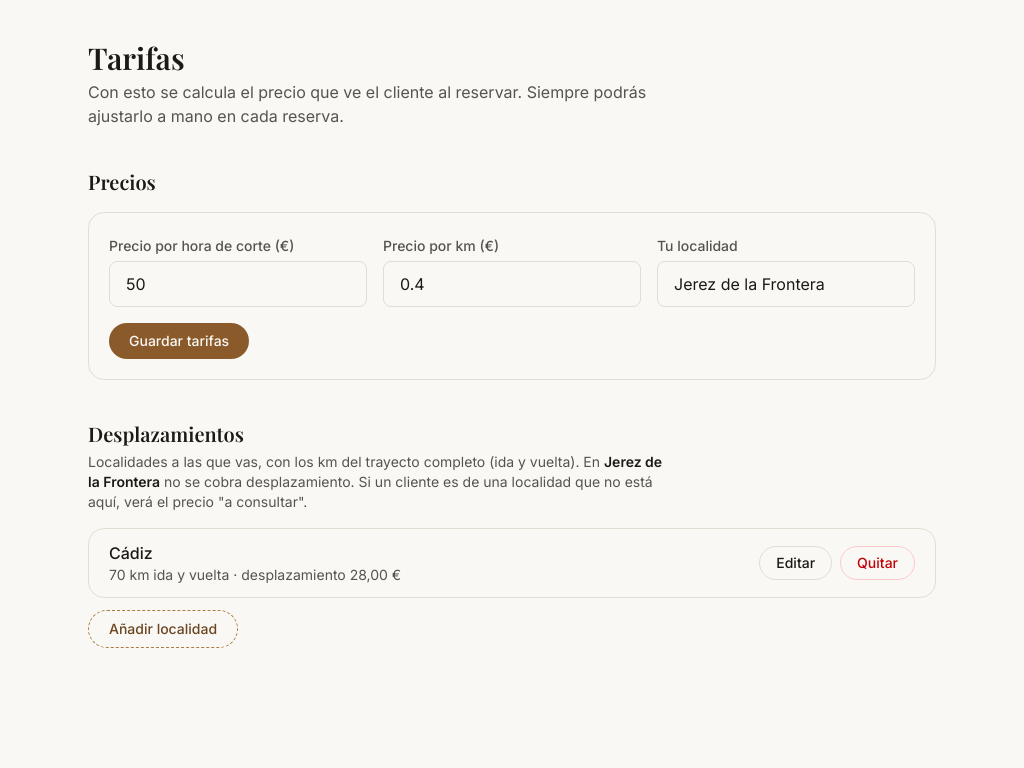
Test: AdminPricing › guardar tarifas envía los números y avisa de que se han guardado
Step 1. Replace the text in the number field labelled "Precio por hora de corte (€)" with "60" → (238, 284), box [109,261,367,307]
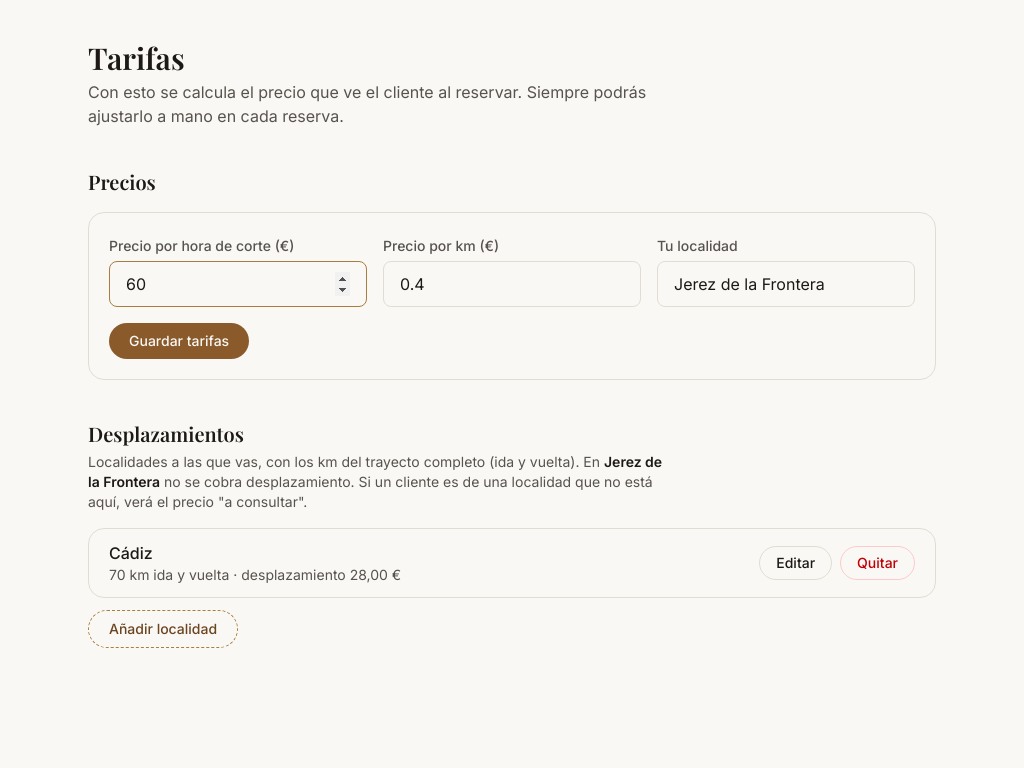
Step 2. Click the button "Guardar tarifas" → (179, 341), box [109,323,249,359]
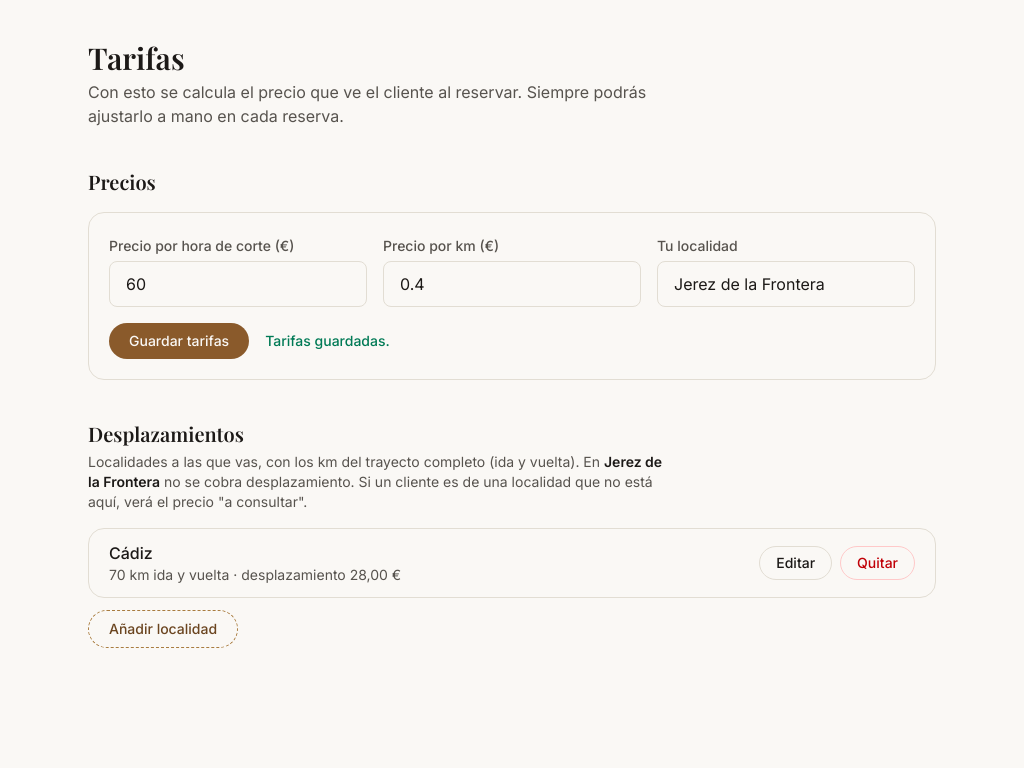
Result: the message reads "Tarifas guardadas." at [265,332,390,349]
